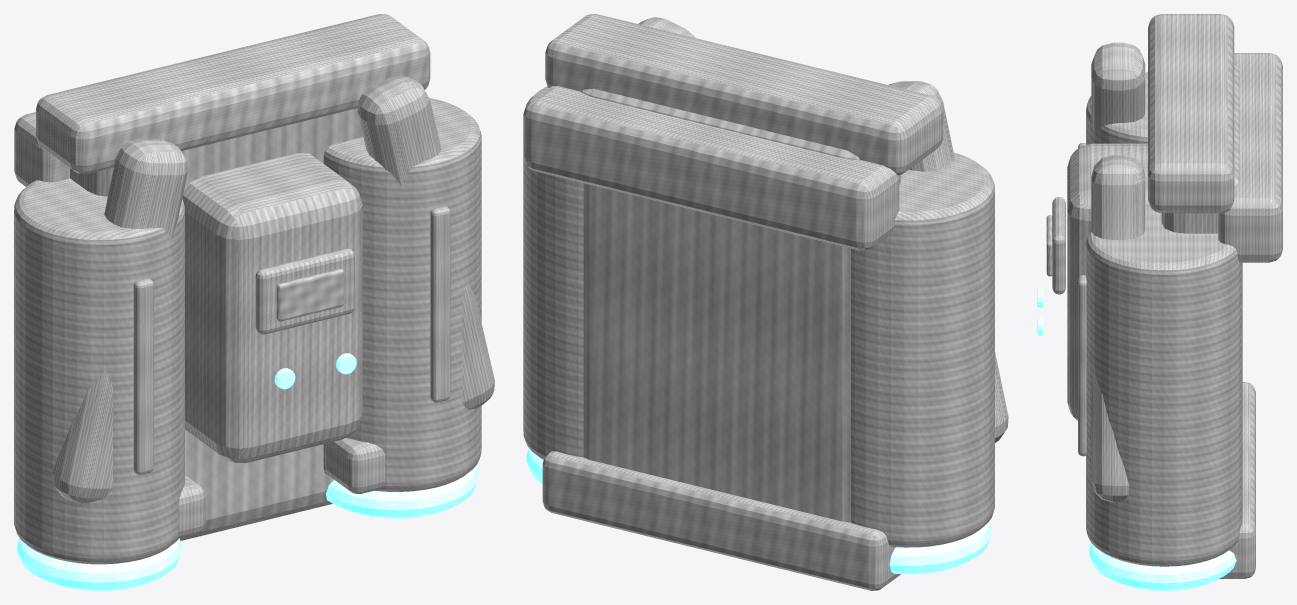
File: hoverpack_variant_a.glb
3 renders of one model, left to right at view 1: azimuth 30°, elevation 25°; view 2: azimuth 150°, elevation 25°; view 3: azimuth 270°, elevation 25°, orthographic. The views are drawn at different scales.
Parts seen in each view (by area): view 1: Vertical lift pod, Power receiver housing, Vertical lift pod.001, Upper cross brace, Dorsal mounting plate, Shoulder strap, Shoulder strap.001, Lift emitter ring.001, Power status display bezel, Pod armor stripe.001, Pod armor stripe, Lift emitter ring (+4 smaller); view 2: Dorsal mounting plate, Vertical lift pod, Shoulder yoke, Upper cross brace, Waist stabilizer, Vertical lift pod.001, Lift emitter ring.001, Shoulder strap; view 3: Vertical lift pod.001, Upper cross brace, Shoulder yoke, Shoulder strap.001, Power receiver housing, Shoulder strap, Lift emitter ring, Waist stabilizer, Dorsal mounting plate, Pod armor stripe.001, Vertical lift pod, Power status display bezel (+1 smaller).
Part boxes in pixels (bbox=[...]): Vertical lift pod: bbox=[14, 178, 184, 564]; Power receiver housing: bbox=[182, 153, 362, 463]; Vertical lift pod.001: bbox=[323, 98, 481, 491]; Upper cross brace: bbox=[36, 14, 430, 173]; Dorsal mounting plate: bbox=[70, 108, 363, 540]; Shoulder strap: bbox=[52, 139, 187, 503]; Shoulder strap.001: bbox=[357, 75, 494, 409]; Lift emitter ring.001: bbox=[17, 538, 181, 590]; Power status display bezel: bbox=[255, 248, 354, 334]; Pod armor stripe.001: bbox=[430, 206, 450, 402]; Pod armor stripe: bbox=[133, 278, 153, 474]; Lift emitter ring: bbox=[325, 466, 478, 518]; Dorsal mounting plate: bbox=[581, 88, 900, 522]; Vertical lift pod: bbox=[851, 152, 994, 547]; Shoulder yoke: bbox=[523, 86, 899, 250]; Upper cross brace: bbox=[545, 14, 943, 175]; Waist stabilizer: bbox=[542, 451, 900, 590]; Vertical lift pod.001: bbox=[523, 86, 583, 459]; Lift emitter ring.001: bbox=[889, 521, 991, 574]; Shoulder strap: bbox=[888, 81, 1008, 442]; Vertical lift pod.001: bbox=[1086, 204, 1242, 566]; Upper cross brace: bbox=[1148, 14, 1234, 213]; Shoulder yoke: bbox=[1218, 53, 1282, 262]; Shoulder strap.001: bbox=[1091, 155, 1145, 502]; Power receiver housing: bbox=[1067, 143, 1148, 420]; Shoulder strap: bbox=[1091, 42, 1145, 135]; Lift emitter ring: bbox=[1089, 543, 1236, 590]; Waist stabilizer: bbox=[1219, 382, 1255, 578]; Dorsal mounting plate: bbox=[1161, 63, 1239, 233]; Pod armor stripe.001: bbox=[1078, 275, 1086, 456]; Vertical lift pod: bbox=[1086, 72, 1147, 144]; Power status display bezel: bbox=[1052, 197, 1065, 294].
Size of what is drawn, in the model's own units: 0.87 by 0.855 by 0.456.
Materials: 8 (8 with a texture image).
